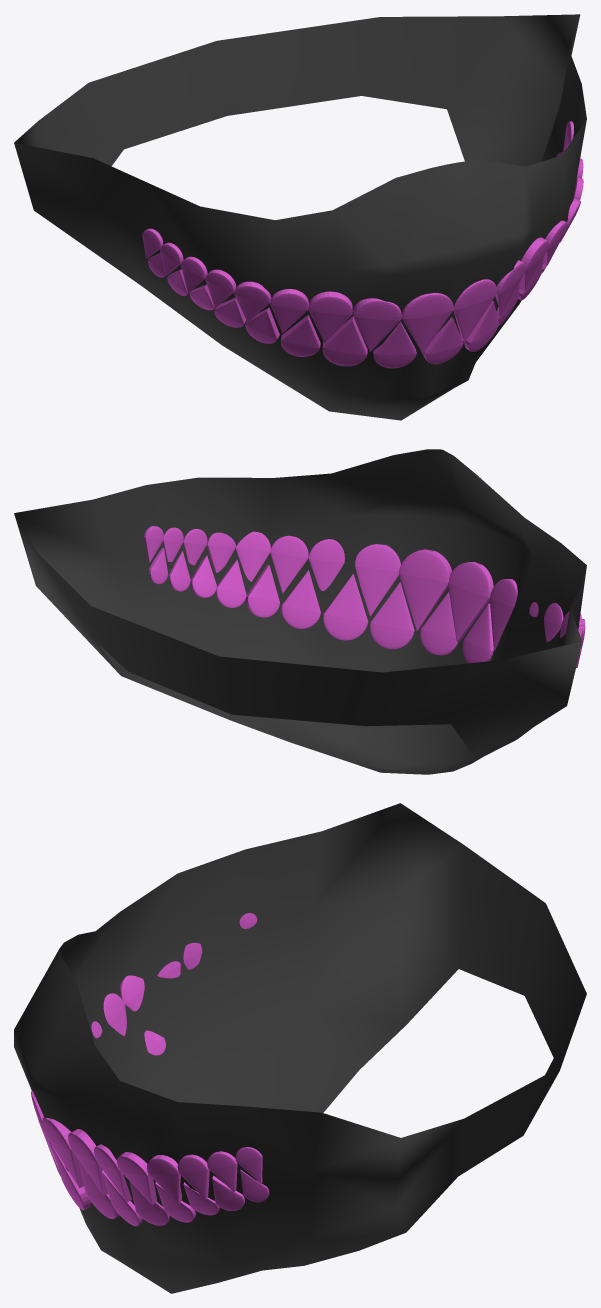
The model's file is star fanboy mask.fbx.
3 views of the same model, one above another, from view 1: azimuth 30°, elevation 25°; view 2: azimuth 150°, elevation 25°; view 3: azimuth 270°, elevation 25° (orthographic). The views are drawn at different scales.
Visible parts, largest first — view 1: Body.001; view 2: Body.001; view 3: Body.001.
Boxes of the visible parts, x1,y1,x2,y2 form: Body.001: (14,14,586,420); Body.001: (14,449,586,774); Body.001: (14,803,586,1293).
Size of the model in its own units: 14.17 by 6.78 by 10.62.
